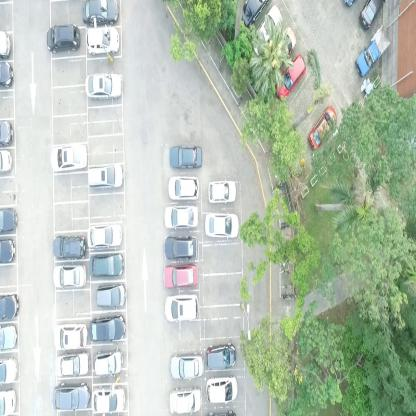car: (356, 24, 390, 78), (250, 5, 282, 59), (274, 52, 306, 101), (267, 25, 296, 72), (308, 102, 336, 146), (52, 380, 90, 412), (50, 142, 88, 172), (206, 372, 240, 404), (203, 211, 240, 240), (84, 73, 123, 100), (46, 25, 81, 55), (163, 262, 200, 290), (82, 0, 120, 27), (169, 383, 201, 415), (238, 0, 268, 34), (55, 348, 90, 377), (88, 317, 127, 343), (164, 293, 200, 321), (86, 26, 120, 55), (87, 221, 123, 248), (90, 386, 126, 412), (51, 262, 87, 288), (94, 282, 126, 310), (163, 205, 200, 229), (89, 251, 124, 276), (56, 320, 88, 347), (171, 352, 204, 378), (164, 235, 198, 260), (359, 0, 385, 32), (204, 342, 236, 368), (87, 166, 124, 188), (169, 144, 202, 168), (93, 350, 123, 376), (53, 234, 85, 258), (167, 176, 200, 198), (206, 179, 236, 203), (0, 291, 20, 321), (0, 356, 19, 386), (0, 324, 19, 352), (0, 389, 19, 415), (0, 236, 16, 266), (0, 205, 17, 233), (0, 58, 14, 88), (0, 119, 14, 147), (0, 148, 13, 176), (0, 30, 12, 57)
